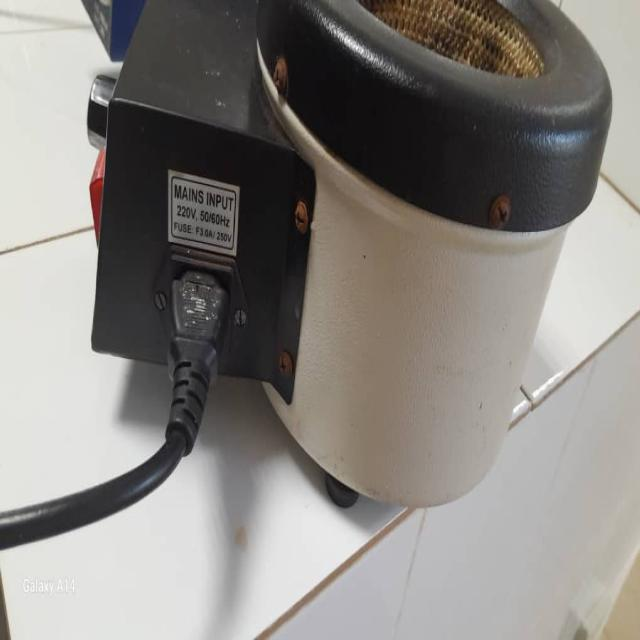Heating Source: (79, 3, 606, 521)
